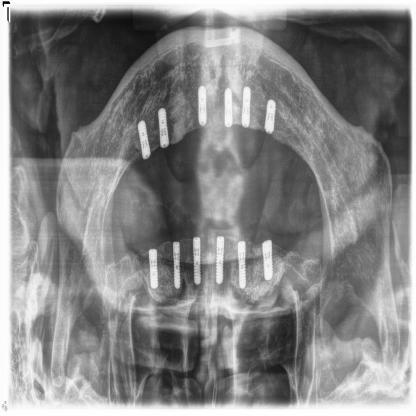ITI: (260, 240, 274, 283), (156, 108, 170, 150), (138, 121, 152, 161), (236, 238, 246, 292), (192, 236, 202, 286), (172, 242, 182, 290), (148, 247, 158, 291), (264, 100, 276, 136), (223, 87, 233, 129), (198, 86, 208, 127), (242, 86, 251, 130), (216, 236, 224, 284)
